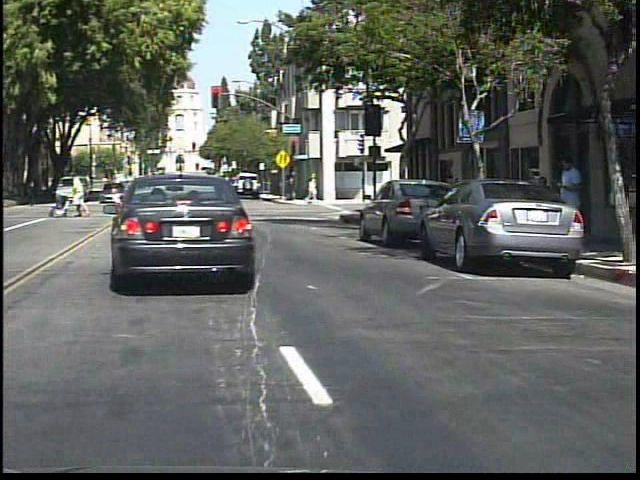person: (557, 149, 589, 253), (77, 171, 98, 220), (2, 174, 18, 210), (60, 174, 61, 207)
